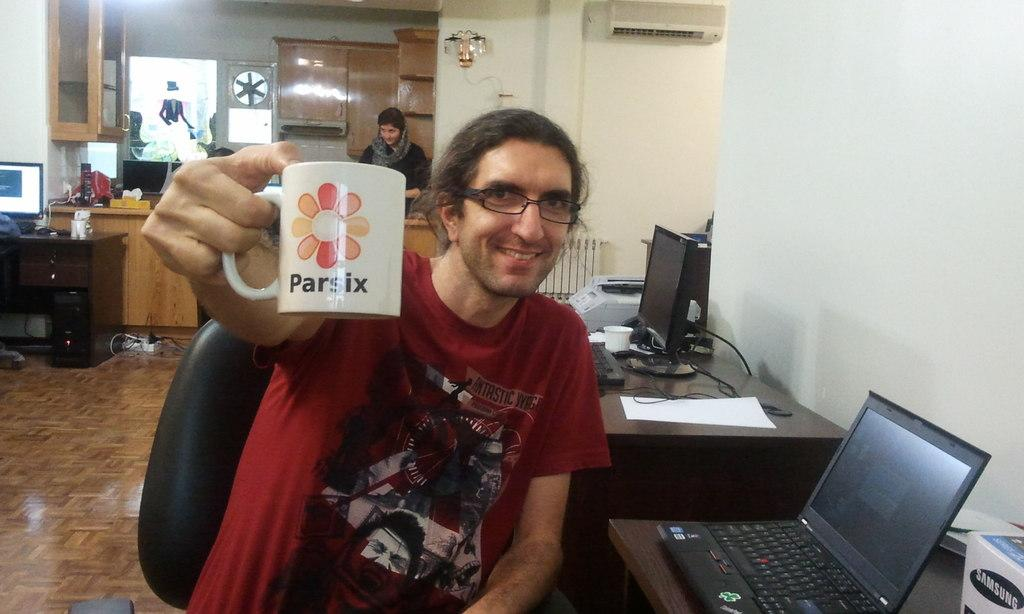Computer-keyboard: (591, 343, 623, 382)
Laptop: (616, 402, 980, 614)
